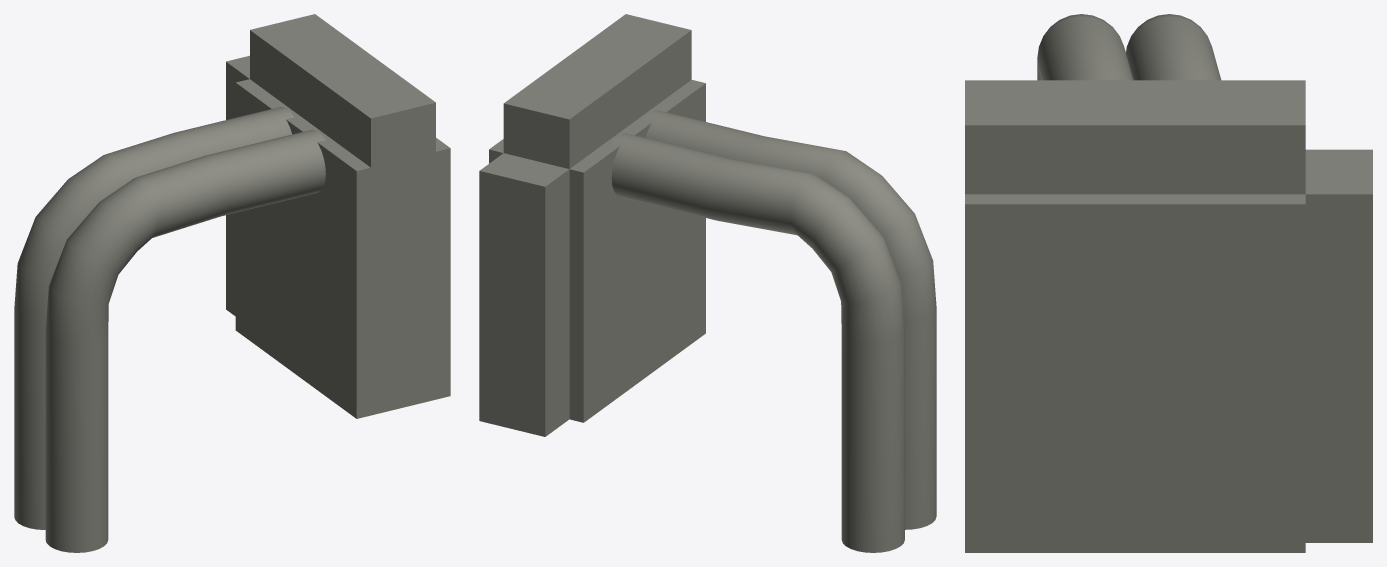
Rendered from pipe_end_01.fbx.
The picture shows the model from 3 angles, left to right: view 1: azimuth 30°, elevation 25°; view 2: azimuth 150°, elevation 25°; view 3: azimuth 270°, elevation 25°; orthographic projection. The views are drawn at different scales.
Visible parts, largest first — view 1: pipe_end_01; view 2: pipe_end_01; view 3: pipe_end_01.
Boxes of the visible parts, x1,y1,x2,y2 form: pipe_end_01: (14,14,450,552); pipe_end_01: (479,14,936,552); pipe_end_01: (965,14,1372,552).
Size of the model in its own units: 104 by 108 by 72.7.
